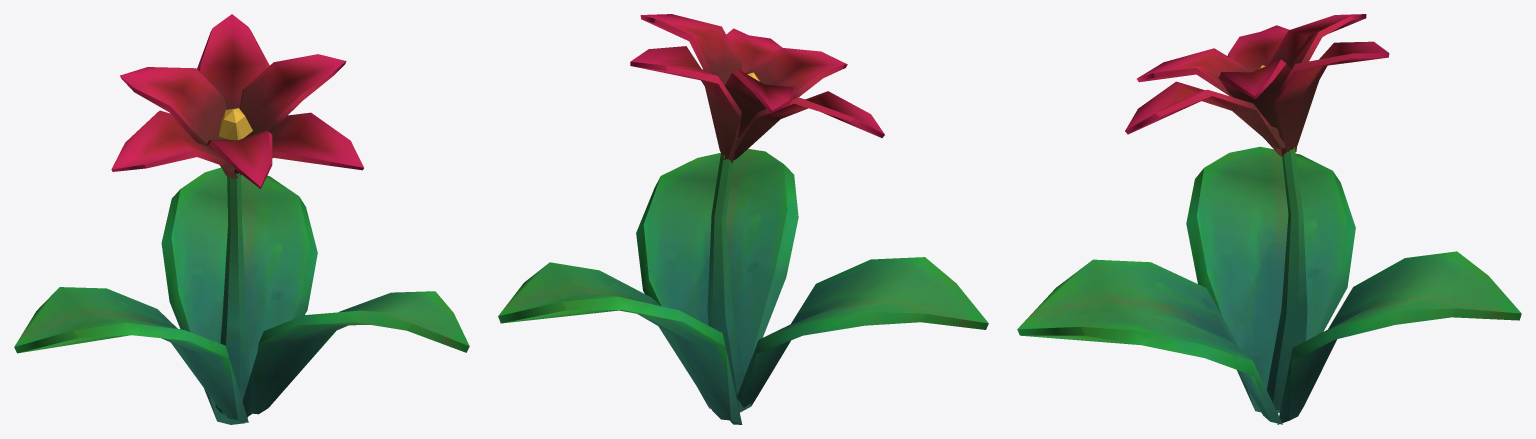
The model's file is flower.glb.
3 views of the same model, side by side, from view 1: azimuth 30°, elevation 25°; view 2: azimuth 150°, elevation 25°; view 3: azimuth 270°, elevation 25° (orthographic). The views are drawn at different scales.
Visible parts, largest first — view 1: pCube7_lambert1_0.001; view 2: pCube7_lambert1_0.001; view 3: pCube7_lambert1_0.001.
Boxes of the visible parts, bbox=[...] form: pCube7_lambert1_0.001: bbox=[14, 14, 469, 424]; pCube7_lambert1_0.001: bbox=[498, 14, 988, 424]; pCube7_lambert1_0.001: bbox=[1017, 14, 1521, 424].
Size of the model in its own units: 2.87 by 2.7 by 3.13.
Materials: 1 (1 with a texture image).
